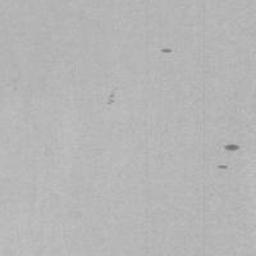Inclusion: (224, 143, 241, 152), (160, 47, 173, 54), (216, 164, 228, 170)
